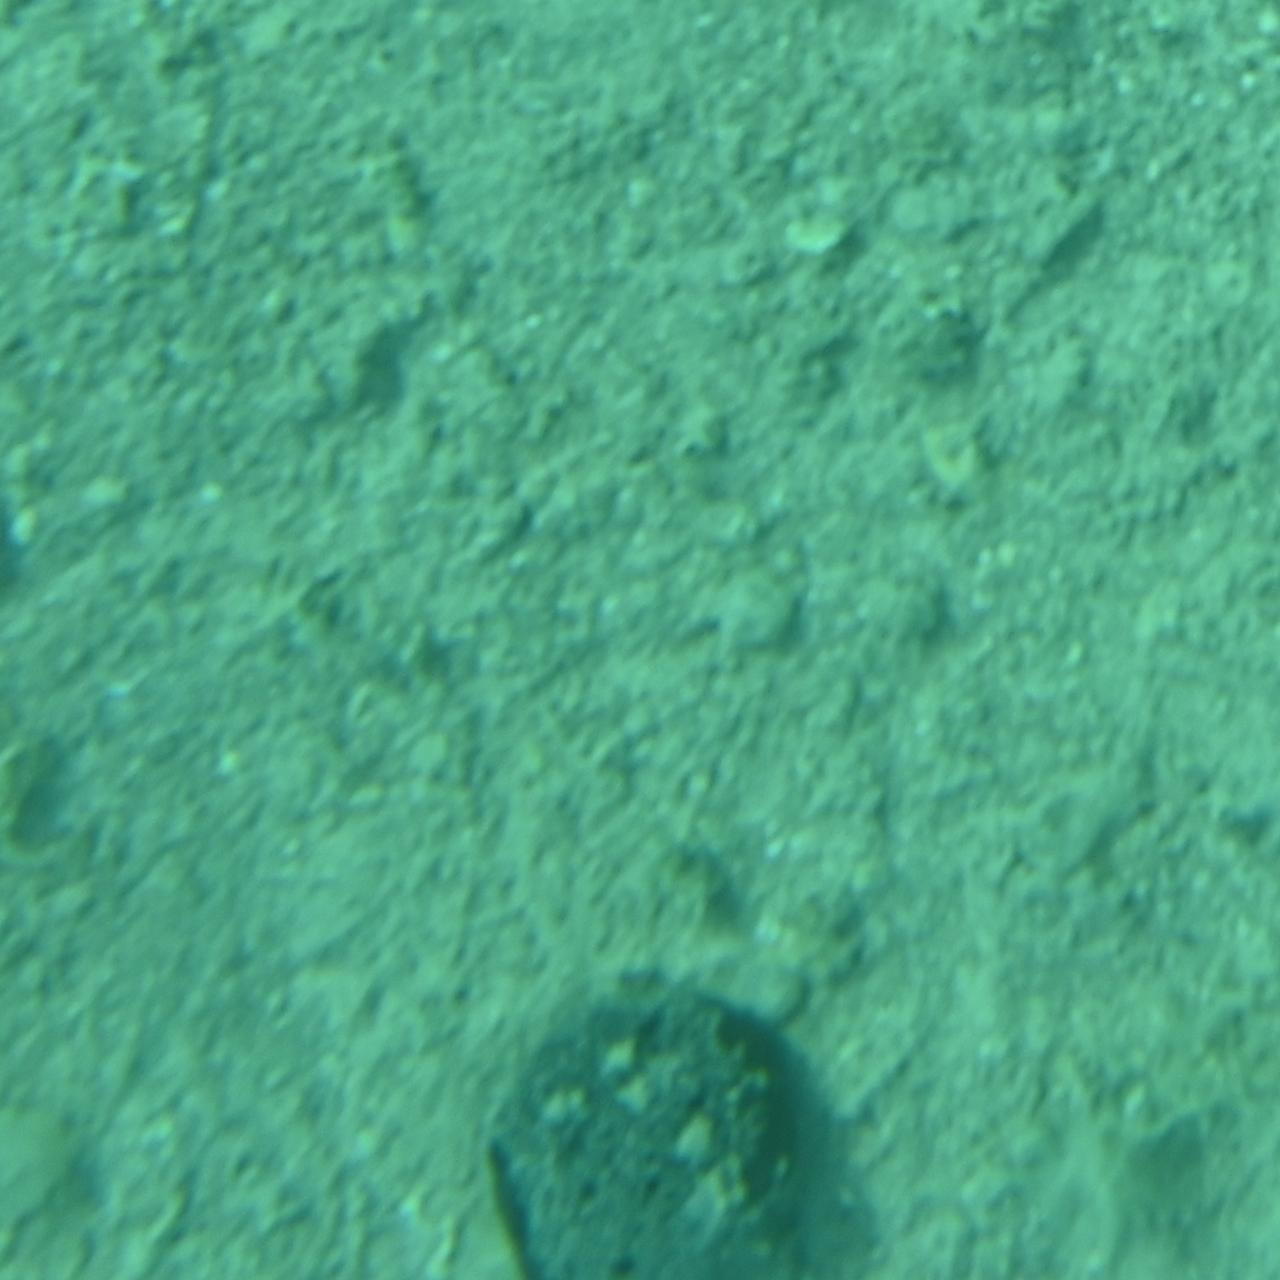Keratosa -cfr Sarcotragus-: (477, 961, 803, 1278)
